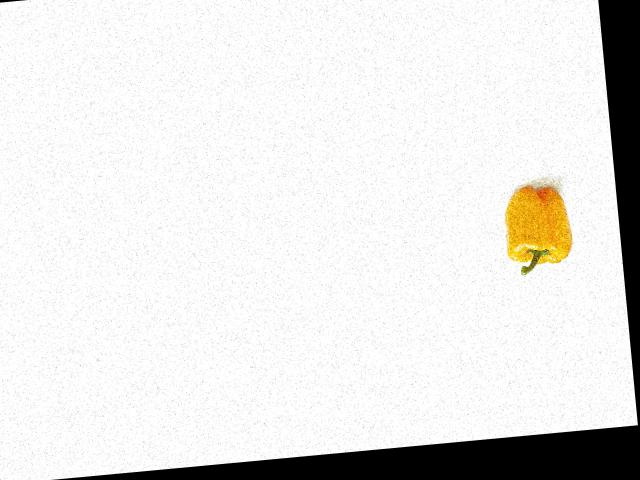bell_pepper: (493, 182, 576, 281)
